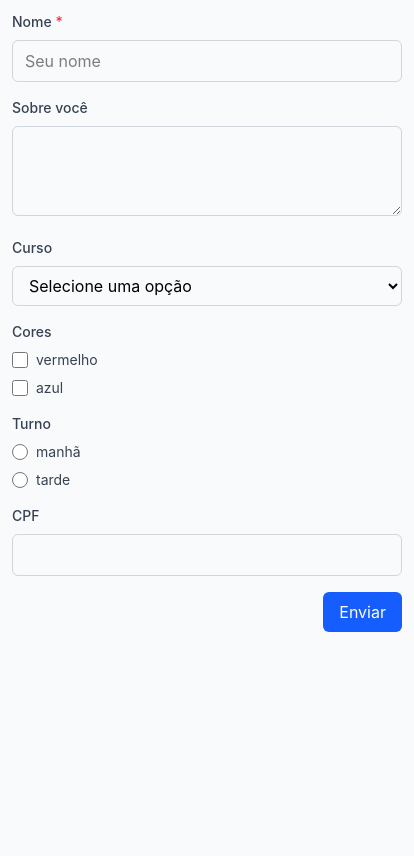
Test: DynamicForm › validates minLength, maxLength and pattern
Type "John" into the field with placeholder "Seu nome" at (207, 61), box [12, 40, 402, 82]
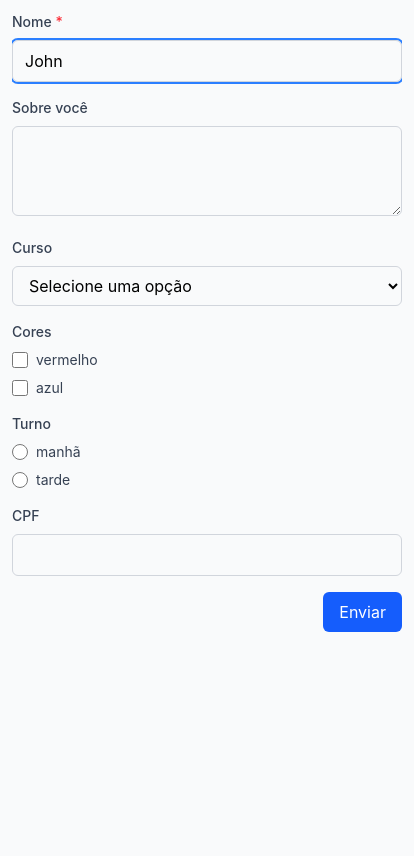
Type "abc" into the text box at (207, 171), box [12, 126, 402, 216]
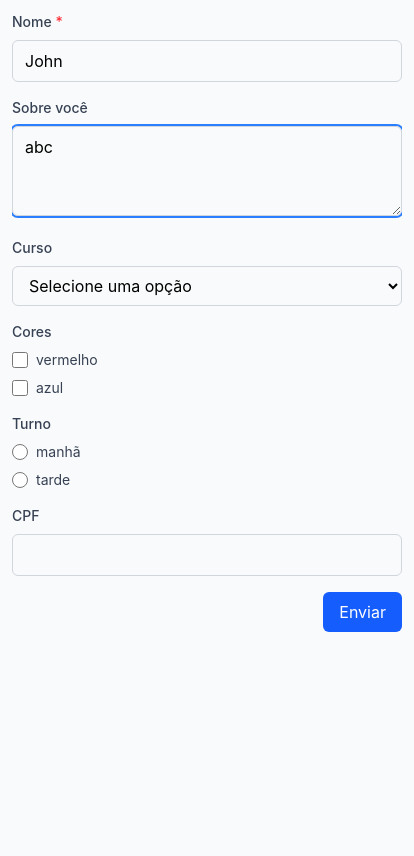
Type "12" into the field below "CPF" at (207, 555), box [12, 534, 402, 576]
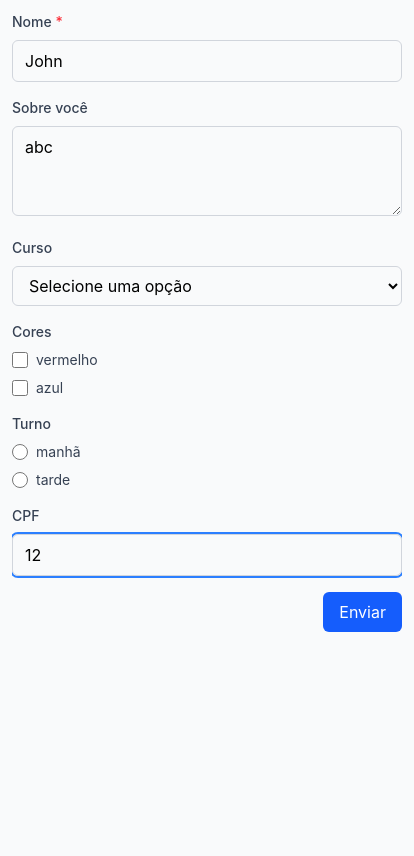
Click the button "Enviar" at (363, 612), box [323, 592, 402, 632]
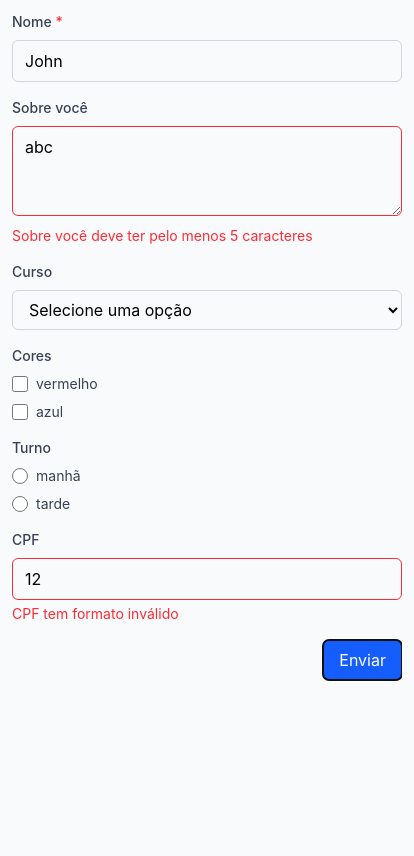
Expected: the text "Sobre você deve ter pelo menos 5 caracteres" is shown, [12, 227, 313, 244]
Expected: the text "CPF tem formato inválido" is shown, [12, 605, 179, 622]
